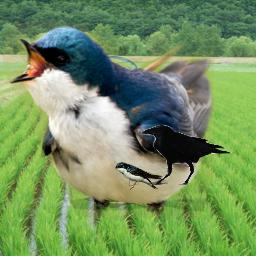Crow: (141, 125, 233, 186)
Swallow: (3, 20, 214, 218), (115, 162, 164, 191)
